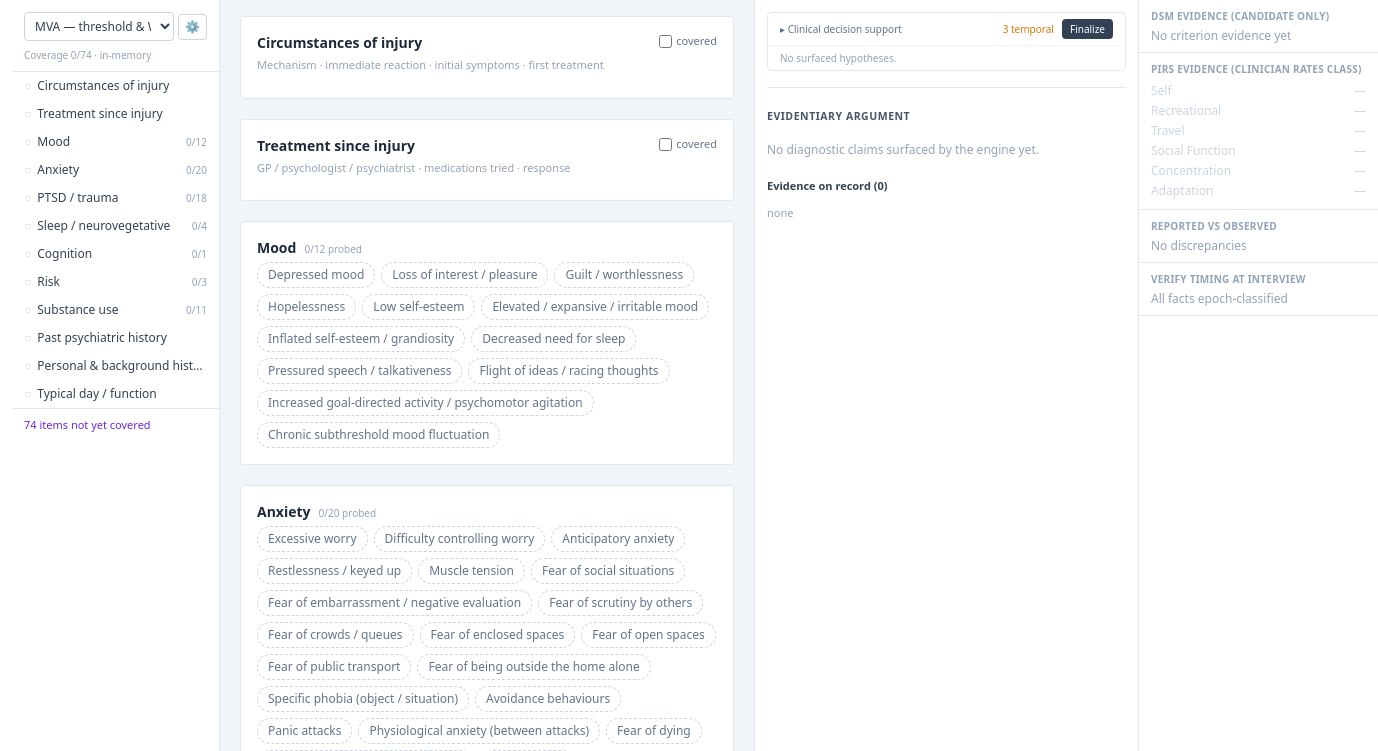
Test: LiveAssessmentPage — template-driven interview canvas › renders the interview script with Mood, Anxiety, PTSD up front; no MSE/PIRS sections
This screenshot has width=1378, height=751.
Check: the text "Mood" is shown, box [37,133,70,150]
Check: the text "Anxiety" is shown, box [37,161,79,178]
Select "Workers compensation" in the dropdown with test id "template-picker": (99, 26) [24,12,174,41]
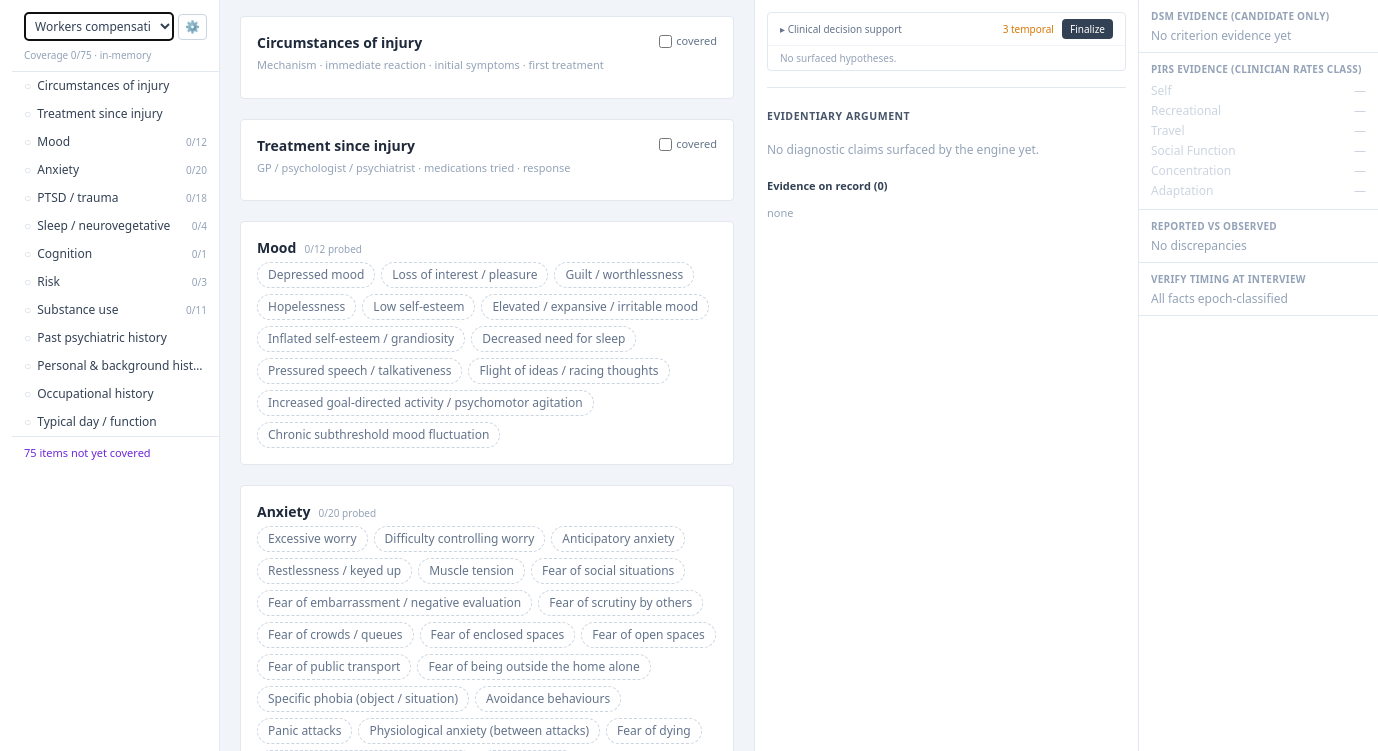
Check: the text "Occupational history" is shown, box [37,385,154,402]
